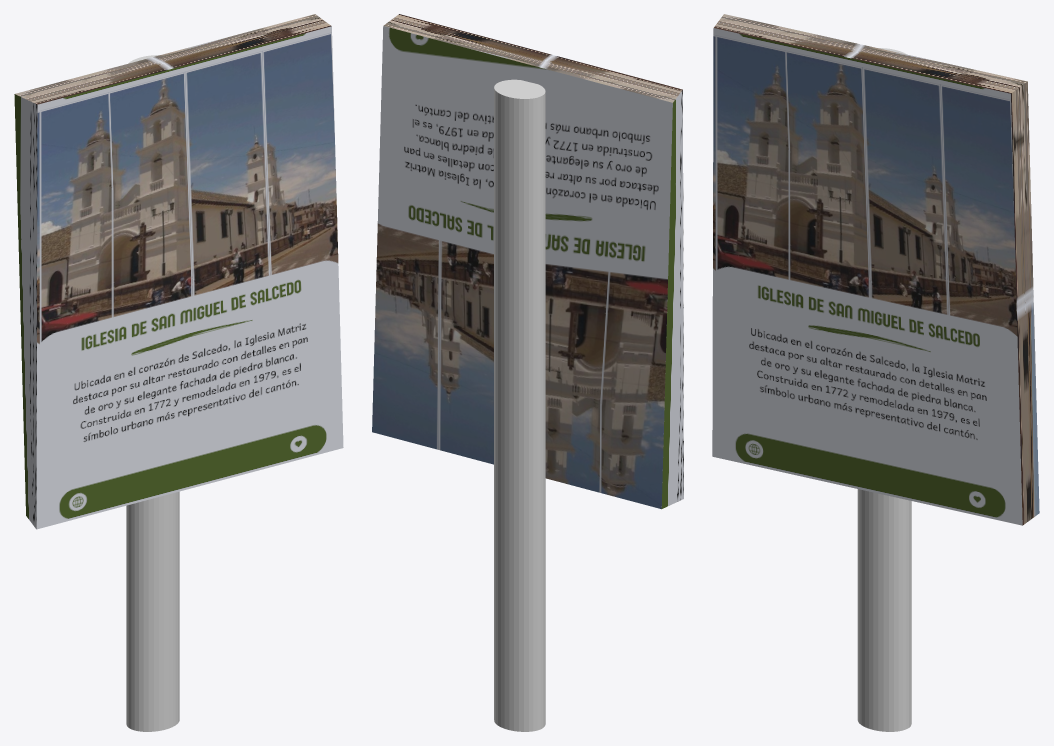
The model's file is Cartel_Iglesia.glb.
3 renders of one model, left to right at view 1: azimuth 30°, elevation 25°; view 2: azimuth 150°, elevation 25°; view 3: azimuth 330°, elevation 25°, orthographic. The views are drawn at different scales.
Parts seen in each view (by area): view 1: Cubo, Cilindro; view 2: Cubo, Cilindro; view 3: Cubo, Cilindro.
Boxes of the visible parts, x1,y1,x2,y2 form: Cubo: [14, 14, 343, 529]; Cilindro: [126, 55, 179, 731]; Cubo: [372, 14, 683, 509]; Cilindro: [494, 79, 545, 731]; Cubo: [712, 14, 1039, 525]; Cilindro: [857, 48, 911, 731].
Bounding box in the file's own units: 0.8639 × 1.79 × 0.1819.
1 material, 1 textured.
